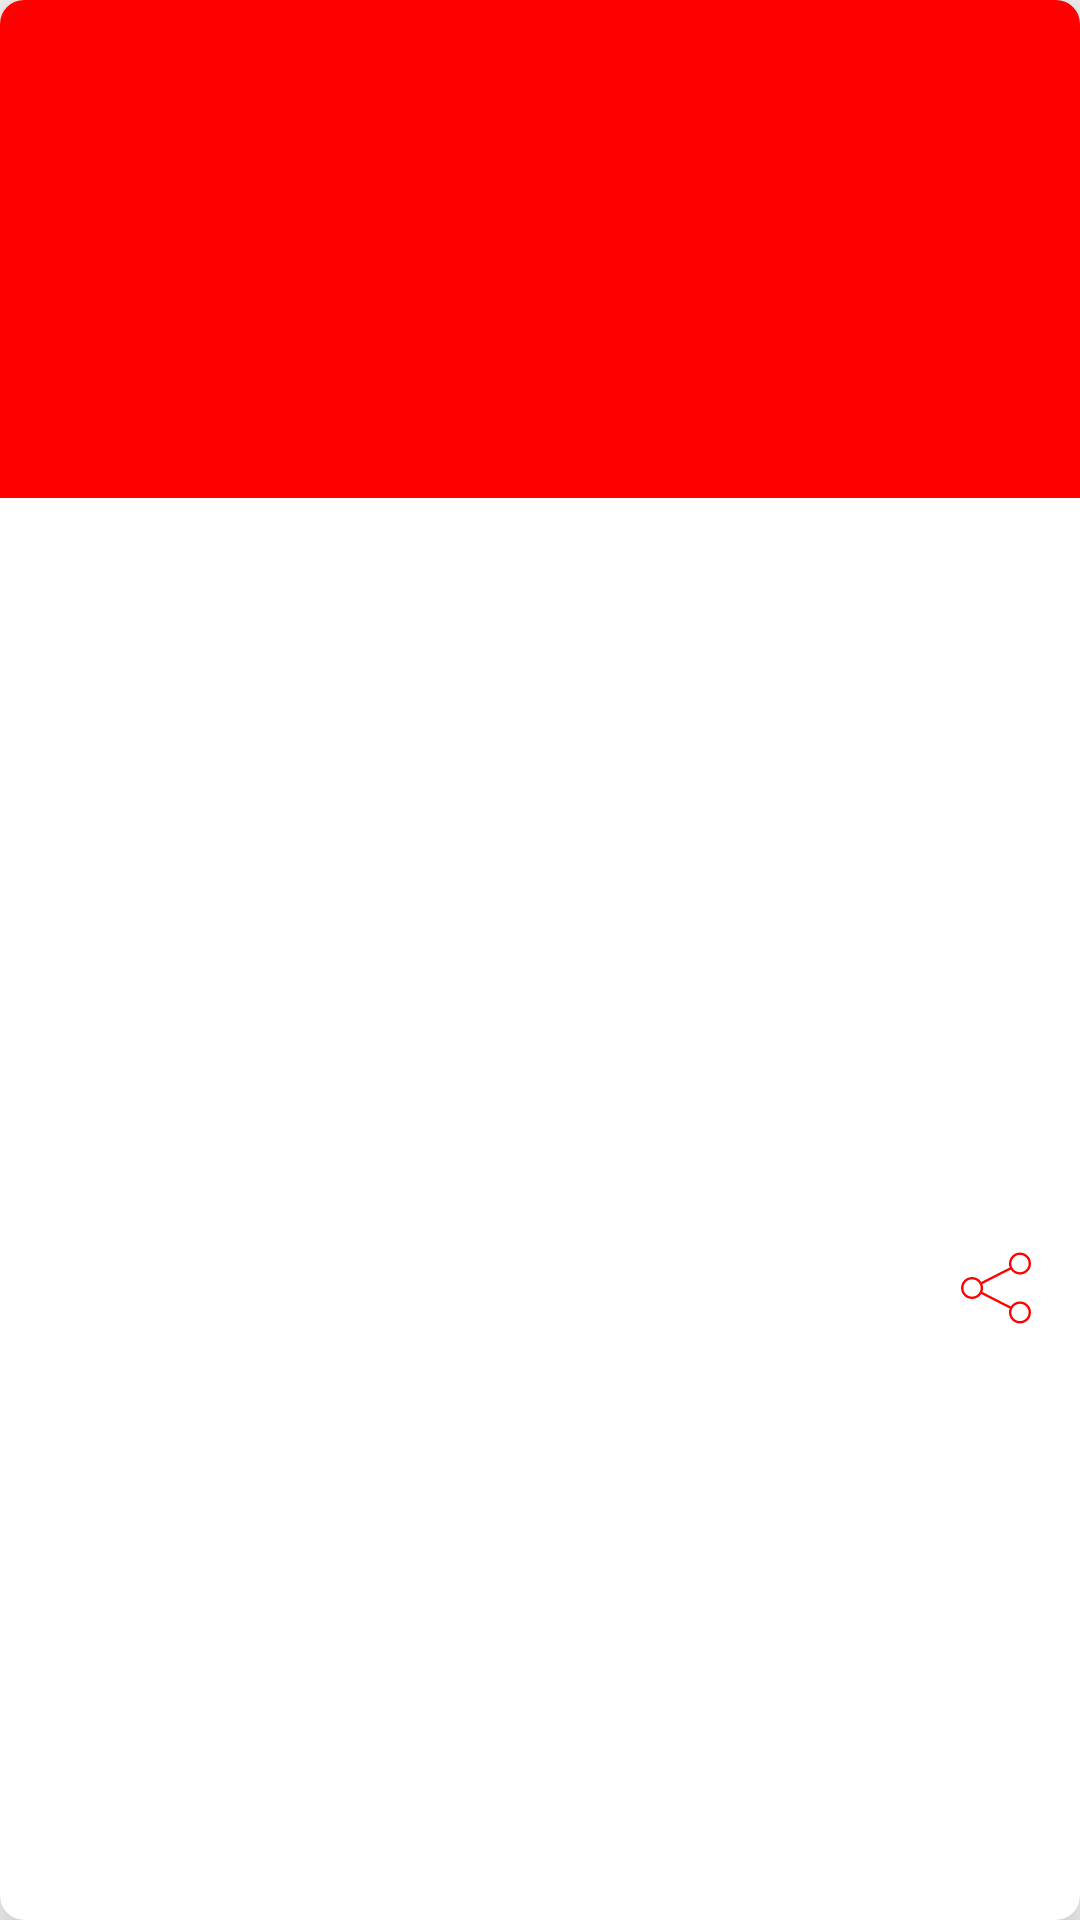

Named icons in this screenshot (1080×1920) and their centers, (x,y):
The button for share the new: (996,1288)
